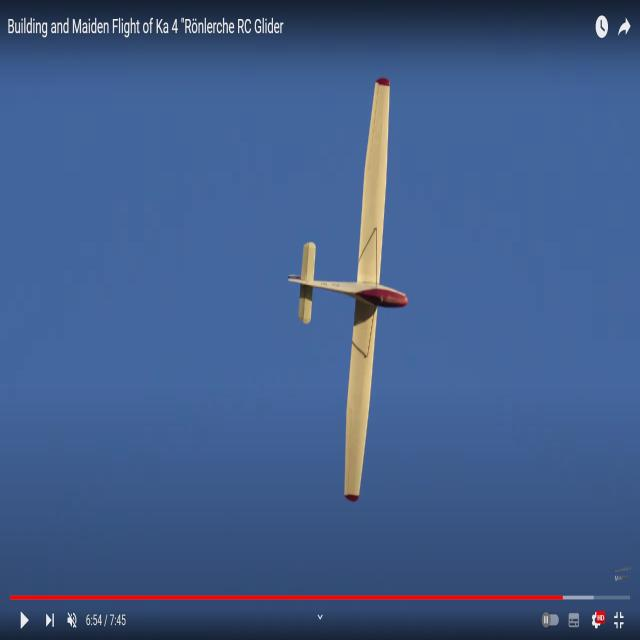iha: (322, 84, 378, 504)
